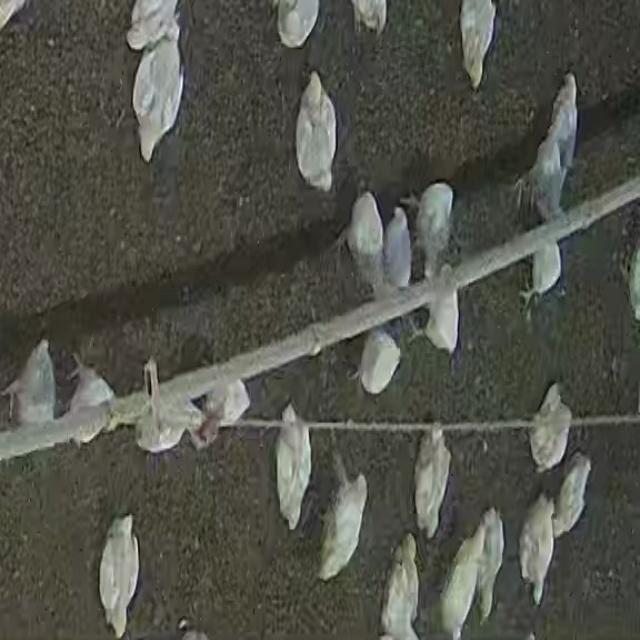chicken: (129, 40, 185, 164), (316, 455, 369, 582), (436, 524, 487, 640), (296, 70, 339, 190), (98, 513, 139, 638), (3, 340, 58, 429), (276, 402, 314, 527), (413, 424, 452, 538), (410, 181, 456, 273), (380, 536, 421, 639), (453, 0, 500, 88), (523, 137, 570, 224), (529, 383, 572, 472), (520, 496, 556, 601), (474, 504, 505, 619), (343, 190, 384, 276), (131, 400, 199, 449), (425, 268, 462, 356), (67, 366, 109, 440), (124, 0, 186, 50), (554, 456, 592, 536), (357, 329, 401, 396), (197, 376, 251, 430), (381, 207, 413, 296), (550, 72, 579, 167), (275, 0, 320, 48), (530, 244, 563, 302), (350, 0, 387, 35)
